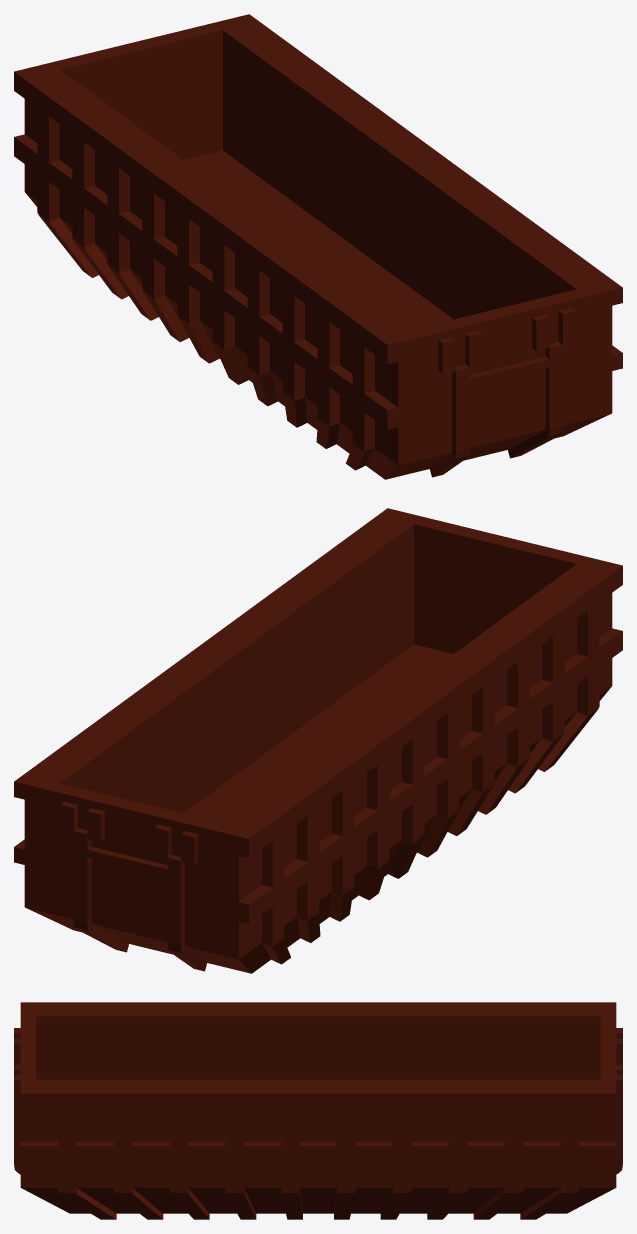
Rendered from DemoContainer.fbx.
3 renders of one model, top to bottom at view 1: azimuth 30°, elevation 25°; view 2: azimuth 150°, elevation 25°; view 3: azimuth 270°, elevation 25°, orthographic. The views are drawn at different scales.
Visible parts, largest first — view 1: Cube; view 2: Cube; view 3: Cube.
Part boxes in pixels (x1,y1,x2,y2): Cube: (14, 14, 622, 479); Cube: (14, 508, 622, 973); Cube: (14, 1002, 622, 1219).
Size of the model in its own units: 422 by 294 by 1186.
